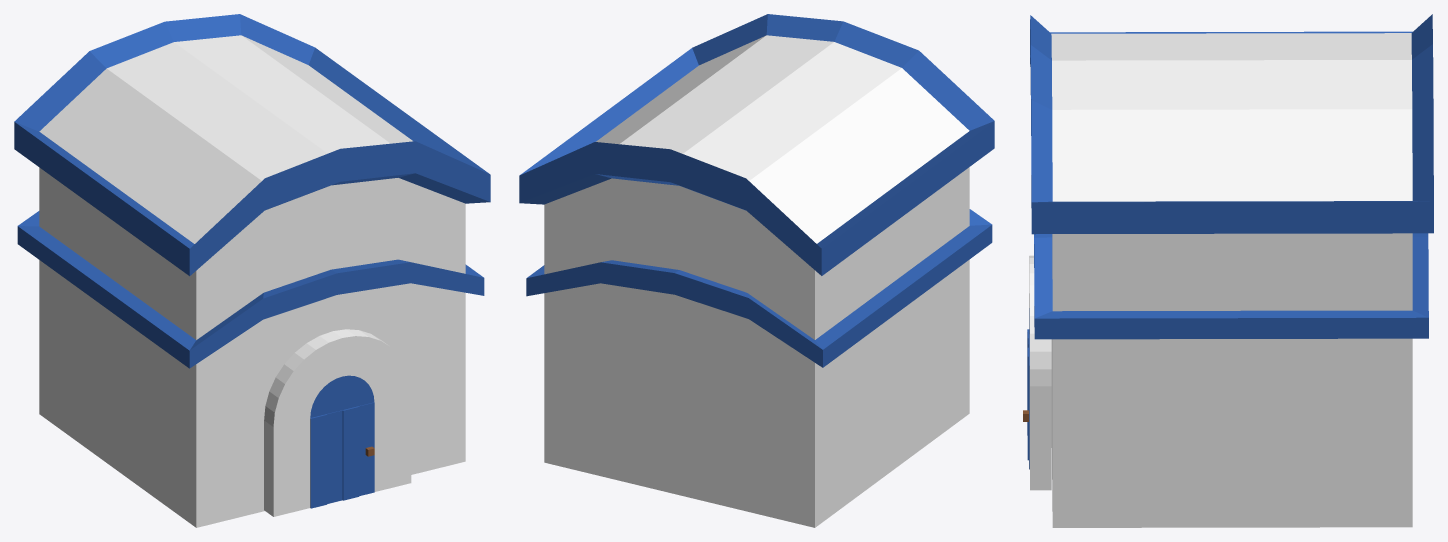
Rendered from house_06.fbx.
The picture shows the model from 3 angles, left to right: view 1: azimuth 30°, elevation 25°; view 2: azimuth 150°, elevation 25°; view 3: azimuth 270°, elevation 25°; orthographic projection. The views are drawn at different scales.
Visible parts, largest first — view 1: house_06; view 2: house_06; view 3: house_06.
Boxes of the visible parts, <box> form: house_06: <box>14,14,490,527</box>; house_06: <box>519,14,994,527</box>; house_06: <box>1023,14,1433,527</box>.
Bounding box in the file's own units: 552 × 614 × 562.
1 material, 1 textured.
